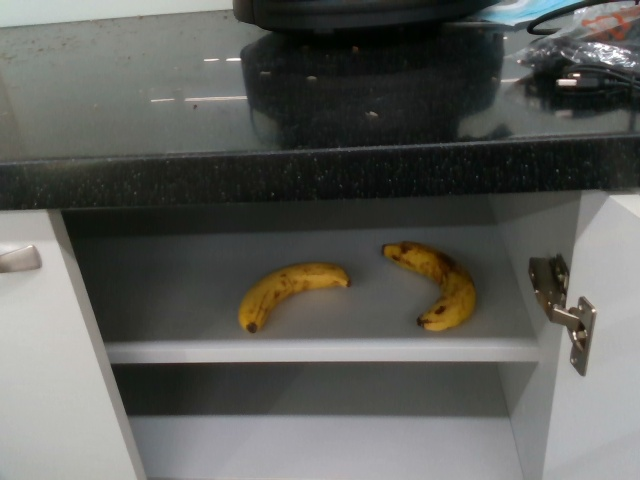banana: (377, 240, 480, 335), (234, 260, 349, 335)
